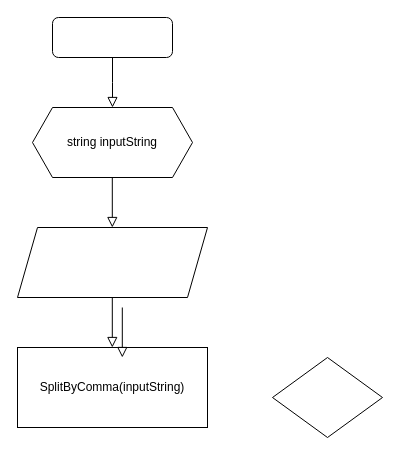
Image size: 400x455. Some labels were removed from this diagram. Each missing label, with the box of its shape:
Input(inputString): (16, 226, 208, 298)
Start: (52, 16, 172, 58)
